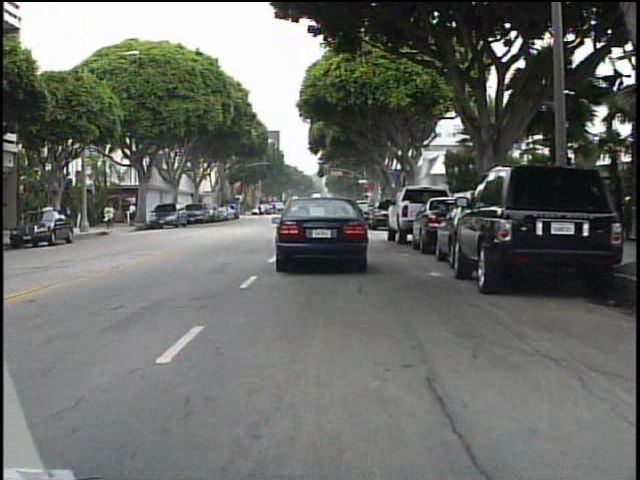person: (104, 200, 120, 234), (129, 200, 143, 230), (258, 200, 269, 221)
